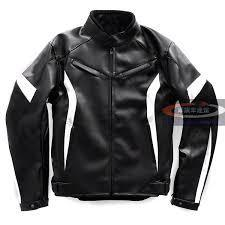jacket: (5, 11, 216, 210)
